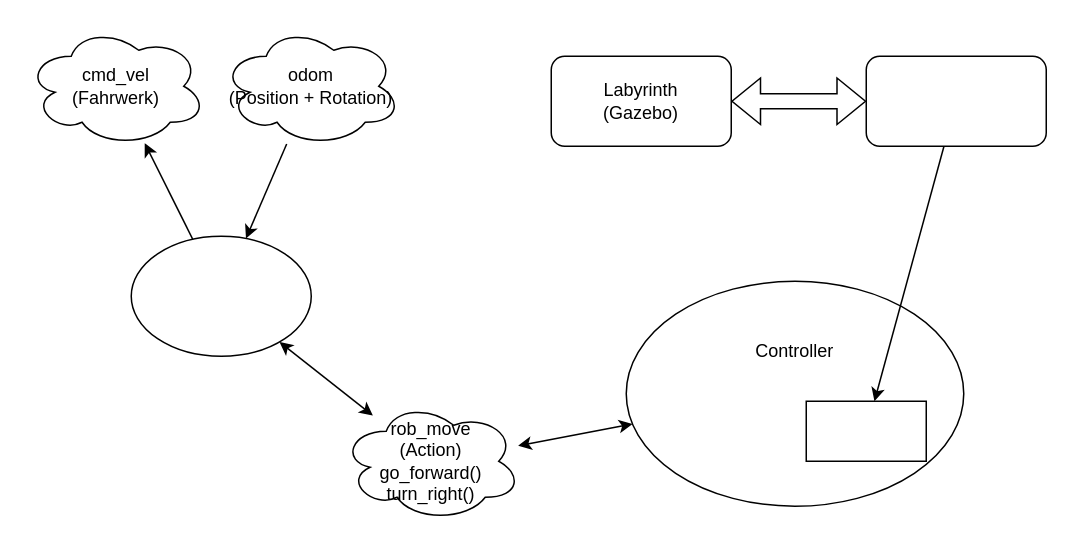
This 1073x548 diagram has some shape labels left out. The shapes that lost their labels are listed below. From the top down, each one's centre as x and y in pixels, then its label:
At (955,100): "Labyrinth (Memory)".
At (220,295): "Navigation (Regelungstechnik)".
At (865,430): "Pathfinding Algorithmus".
